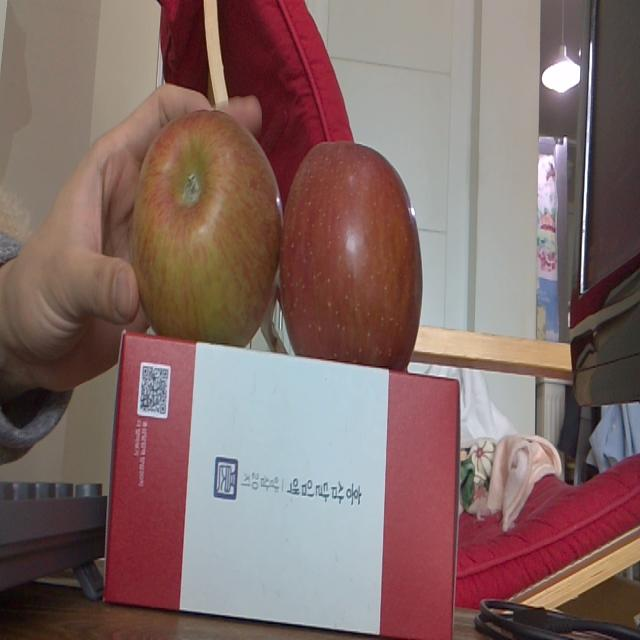apple: (131, 110, 281, 346), (280, 143, 422, 356)
